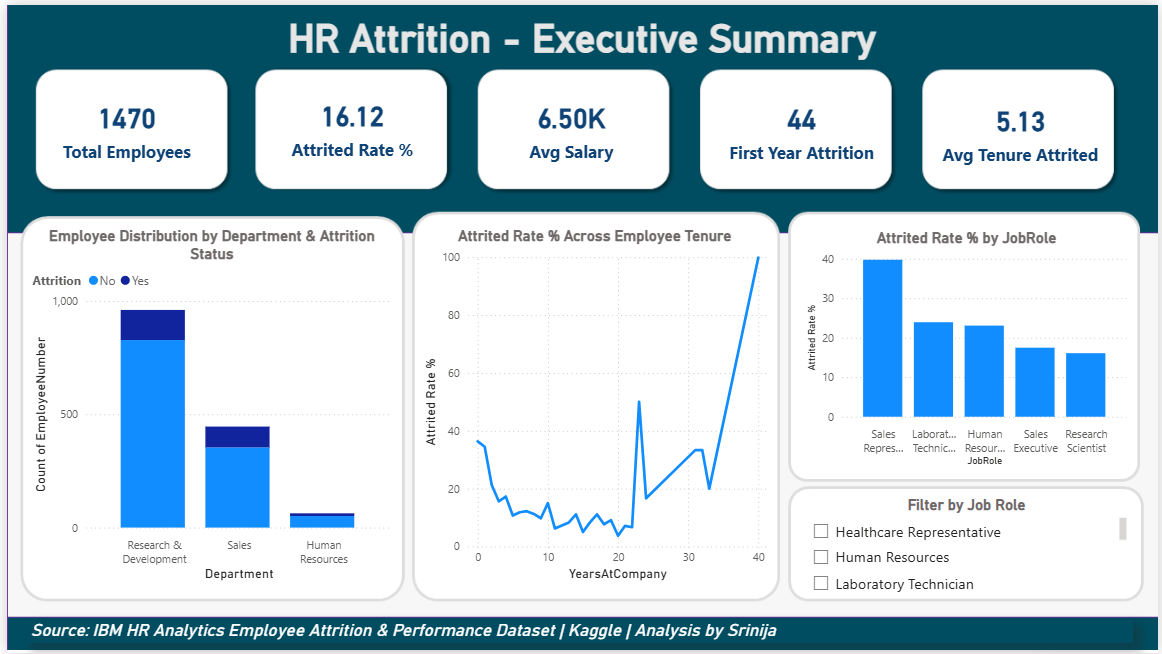

Layout of this report page (visuals, bound fields, positions):
{"tool":"powerbi","page":{"name":"Executive Summary","canvas":[1280,720],"ordinal":0},"visuals":[{"type":"card","fields":{"Values":["metrics.Total Employees"]},"box":[47.7,76.3,168.6,119.3],"z":0},{"type":"card","fields":{"Values":["metrics.Avg Salary"]},"box":[540.8,76.3,173.4,119.3],"z":1000},{"type":"card","fields":{"Values":["metrics.Attrited Rate %"]},"box":[294.3,77.9,176.6,111.3],"z":2000},{"type":"card","fields":{"Values":["metrics.First Year Risk Count"]},"box":[795,85,175,105],"z":3000},{"type":"card","fields":{"Values":["metrics.Avg Tenure Attrited"]},"box":[1033.9,84.3,184.5,109.8],"z":4000},{"type":"columnChart","title":"Employee Distribution by Department & Attrition Status","fields":{"Category":["attrition.Department"],"Y":["CountNonNull(attrition.EmployeeNumber)"],"Series":["attrition.Attrition"]},"box":[23.9,246.5,408.8,397.7],"z":5000},{"type":"lineChart","title":"Attrited Rate % Across Employee Tenure","fields":{"Category":["attrition.YearsAtCompany"],"Y":["metrics.Attrited Rate %"]},"box":[456.5,246.5,392.9,397.7],"z":6000},{"type":"lineStackedColumnComboChart","fields":{"Y":["metrics.Attrited Rate %"],"Category":["attrition.JobRole"]},"box":[882.8,248.1,365.8,268.8],"z":7000},{"type":"slicer","title":"Filter by Job Role","fields":{"Values":["attrition.JobRole"]},"box":[882.8,545.6,365.8,111.3],"z":8000},{"type":"textbox","title":"HR Attrition - Executive Summary","box":[18.5,11.8,1241.9,58.8],"z":9000},{"type":"textbox","title":"Source: IBM HR Analytics Employee Attrition & Performance Dataset | Kaggle | Analysis by Srinija","box":[22.3,684,1229.5,25.4],"z":10000}]}

Visuals, with their boxes in screenshot pixels (x1, y1, x2, y2), scaled from the page's 1280x720 canvas onto the 1162x654 screenshot:
card - metrics.Total Employees: <bbox>43, 69, 196, 178</bbox>
card - metrics.Avg Salary: <bbox>491, 69, 648, 178</bbox>
card - metrics.Attrited Rate %: <bbox>267, 71, 427, 172</bbox>
card - metrics.First Year Risk Count: <bbox>722, 77, 881, 173</bbox>
card - metrics.Avg Tenure Attrited: <bbox>939, 77, 1106, 176</bbox>
"Employee Distribution by Department & Attrition Status" columnChart: <bbox>22, 224, 393, 585</bbox>
"Attrited Rate % Across Employee Tenure" lineChart: <bbox>414, 224, 771, 585</bbox>
lineStackedColumnComboChart - metrics.Attrited Rate % x attrition.JobRole: <bbox>801, 225, 1133, 470</bbox>
"Filter by Job Role" slicer: <bbox>801, 496, 1133, 597</bbox>
"HR Attrition - Executive Summary" textbox: <bbox>17, 11, 1144, 64</bbox>
"Source: IBM HR Analytics Employee Attrition & Performance Dataset | Kaggle | Analysis by Srinija" textbox: <bbox>20, 621, 1136, 644</bbox>
